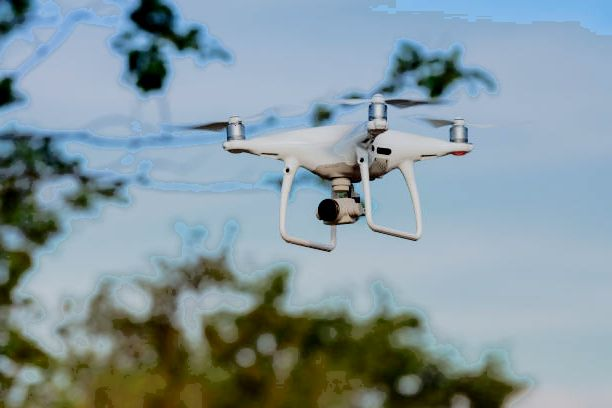Drone: (174, 89, 502, 254)
